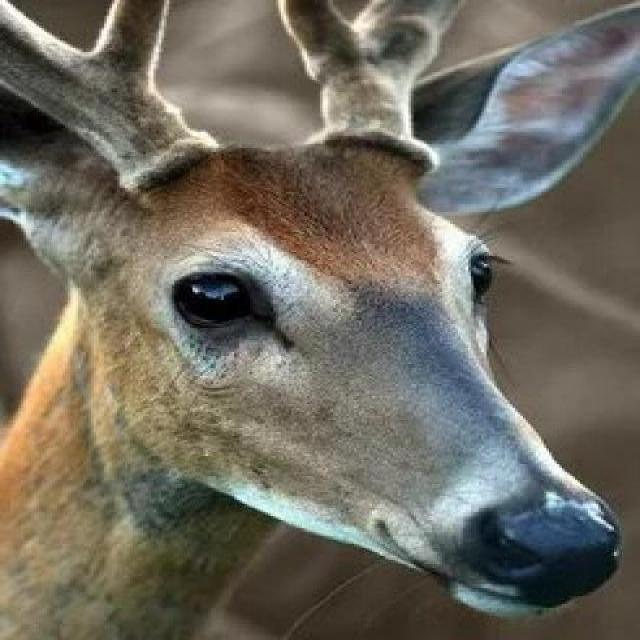deer: (16, 8, 640, 608)
